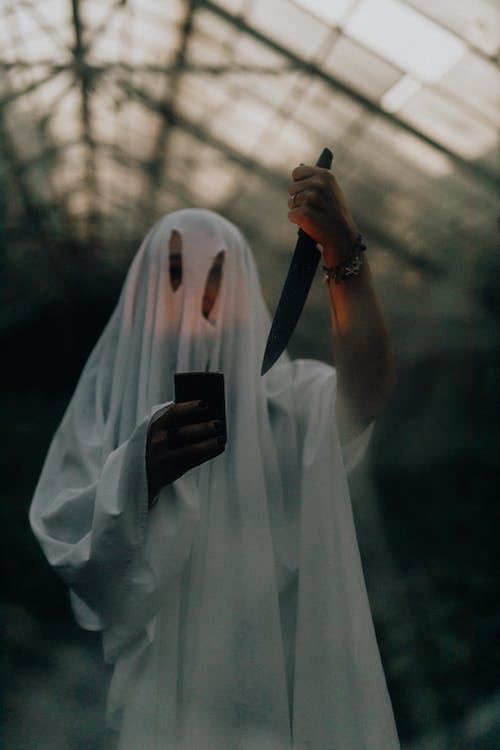knife: (259, 226, 324, 378)
